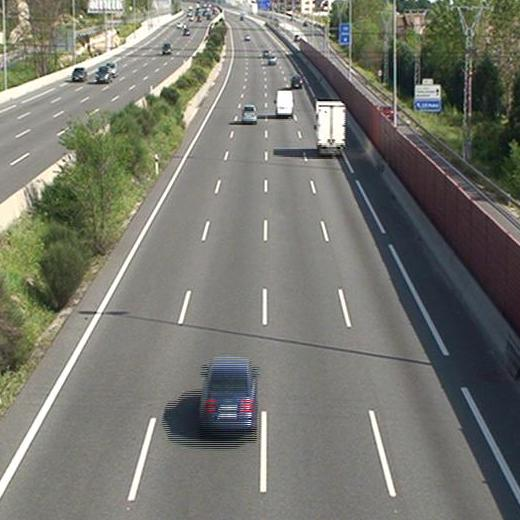car: (198, 359, 257, 431), (242, 105, 258, 123), (291, 74, 302, 87)
small-truck: (314, 100, 345, 155)
van: (274, 90, 293, 116)
